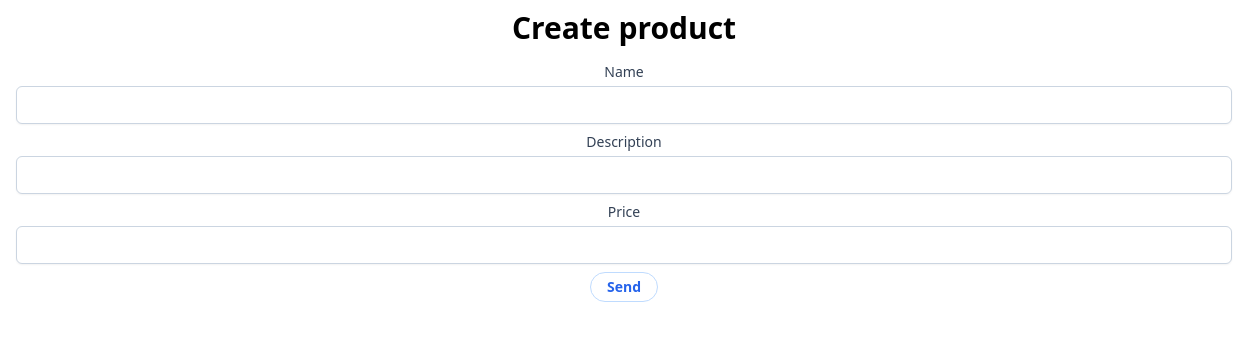
Test: CreateProductPage component › should validate form, create product and navigate to the new page
The width and height of the screenshot is (1249, 351).
# 2️⃣ click send button - validation should take place
Click the button at (624, 287), box [590,272,658,302]
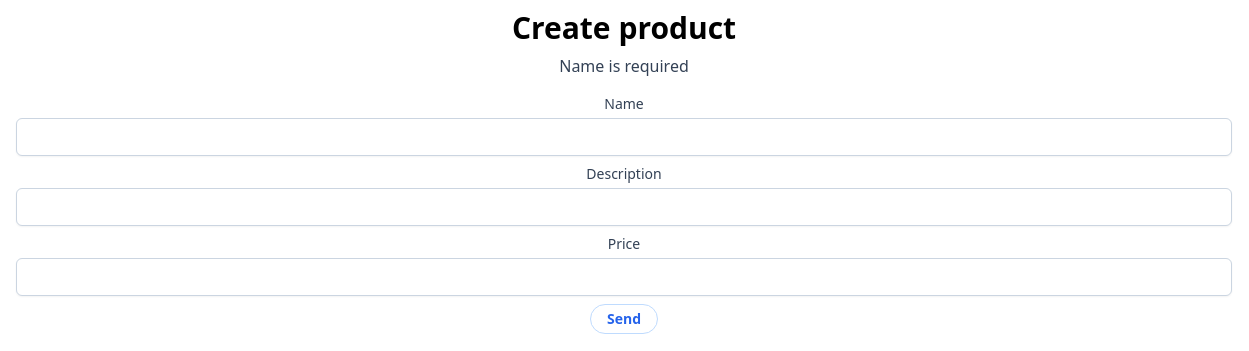
Result: the text "Name is required" is shown at [559,55,689,77]
Type "Product 1" into the field labelled "Name" at (624, 137), box [16,118,1232,156]
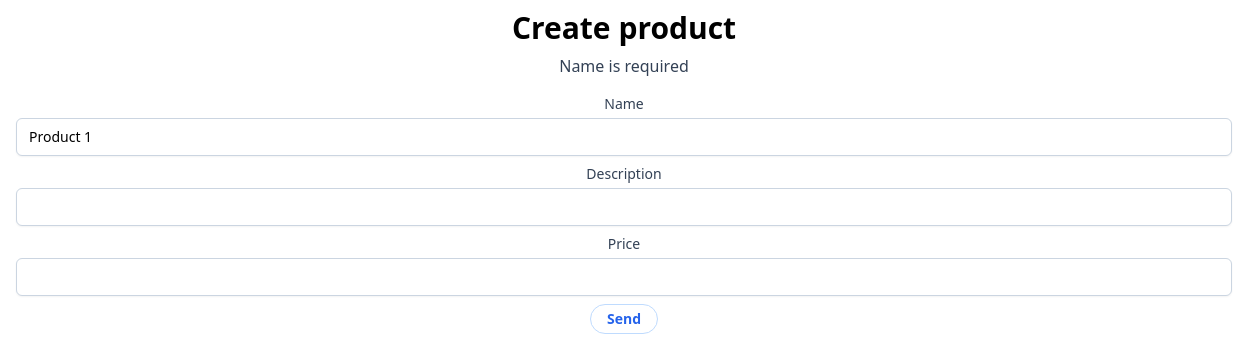
Type "Lorem ipsum" into the field labelled "Description" at (624, 207), box [16,188,1232,226]
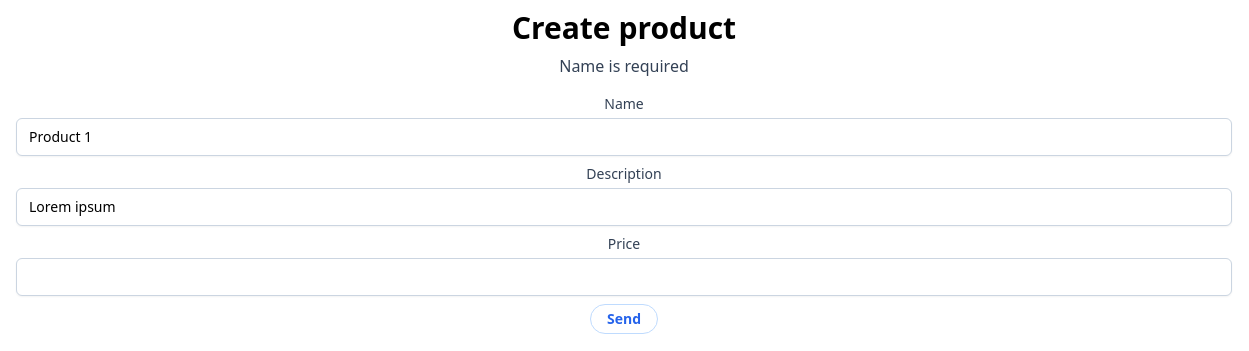
Type "123" into the number field labelled "Price" at (624, 277), box [16,258,1232,296]
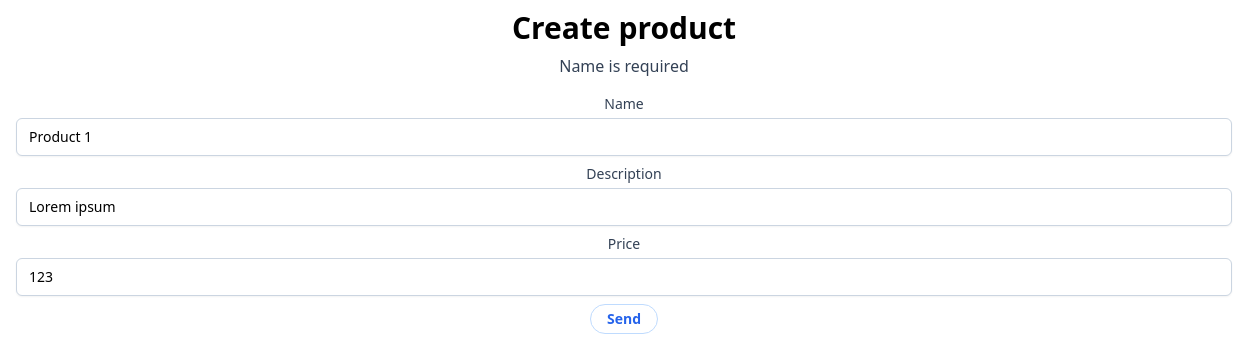
Click the button at (624, 319), box [590,304,658,334]
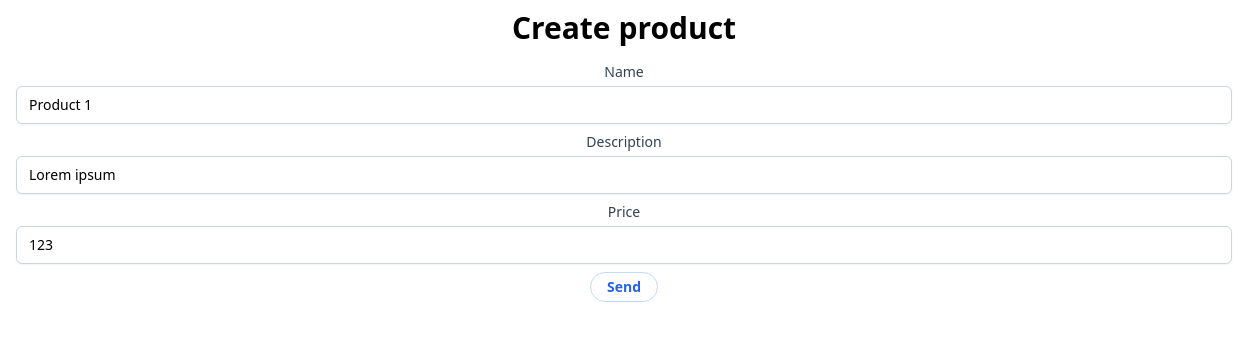
Result: the text "Name is required" is gone
